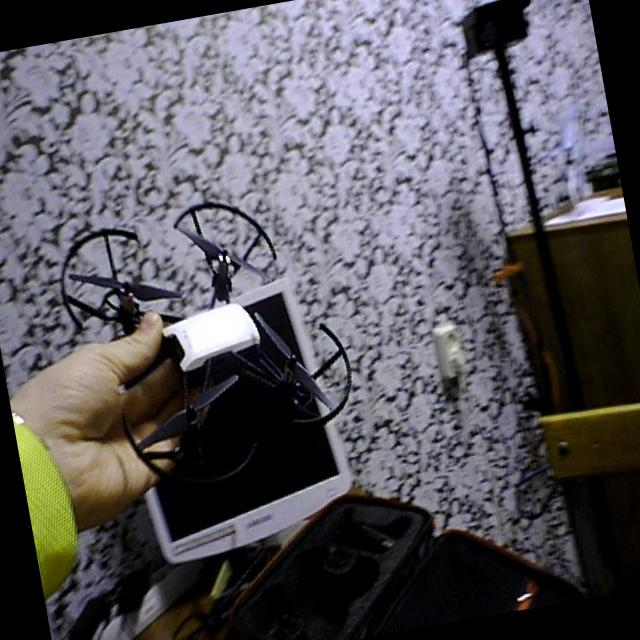drone: (39, 170, 376, 516)
